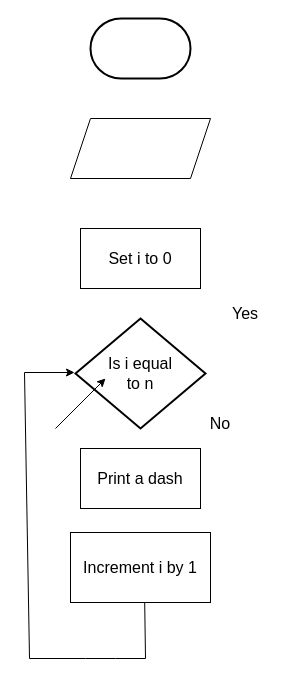
Some shapes in this 293 by 684 pixel diagram are drawn without their labels. Each missing label, with the centre of its shape:
set n to length of line: the point at 140,148
Start: the point at 140,48
